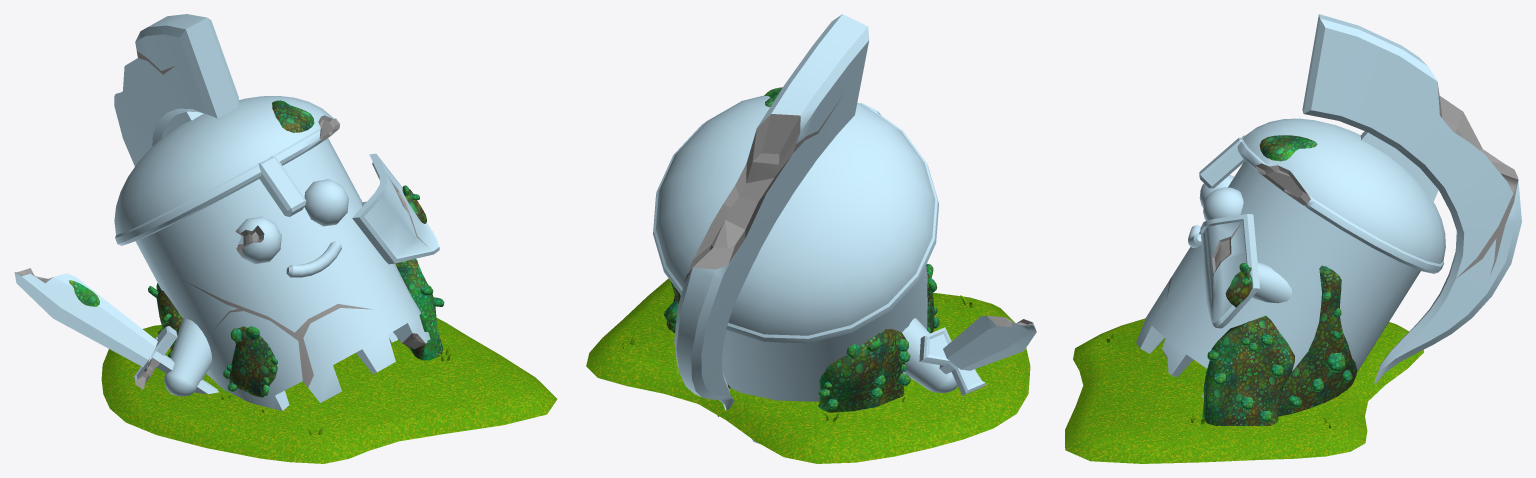
The model's file is OLdStatue3.fbx.
3 renders of one model, left to right at view 1: azimuth 30°, elevation 25°; view 2: azimuth 150°, elevation 25°; view 3: azimuth 270°, elevation 25°, orthographic. The views are drawn at different scales.
Parts seen in each view (by area): view 1: OldGotchi3_LOD0; view 2: OldGotchi3_LOD0; view 3: OldGotchi3_LOD0.
Part boxes in pixels (box(x1,y1,x2,y2)): OldGotchi3_LOD0: box(14, 14, 557, 463); OldGotchi3_LOD0: box(586, 14, 1036, 463); OldGotchi3_LOD0: box(1065, 14, 1521, 463).
Size of what is drawn, in the model's own units: 4184 by 3903 by 4145.
